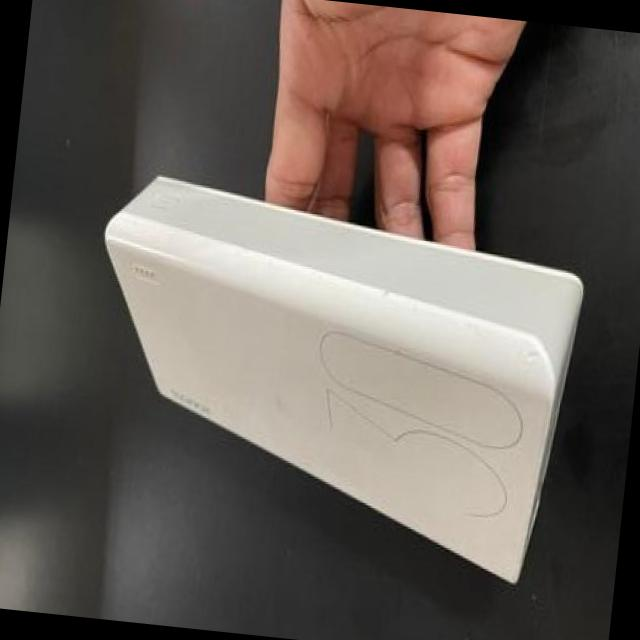power_bank: (69, 153, 598, 599)
